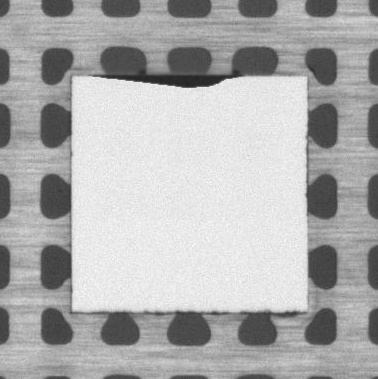DIE_BROKEN: (91, 70, 241, 90)
